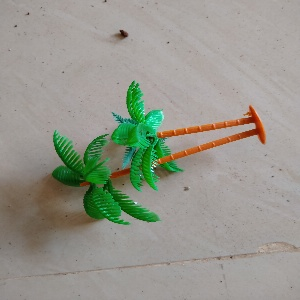plant: (44, 84, 261, 214)
